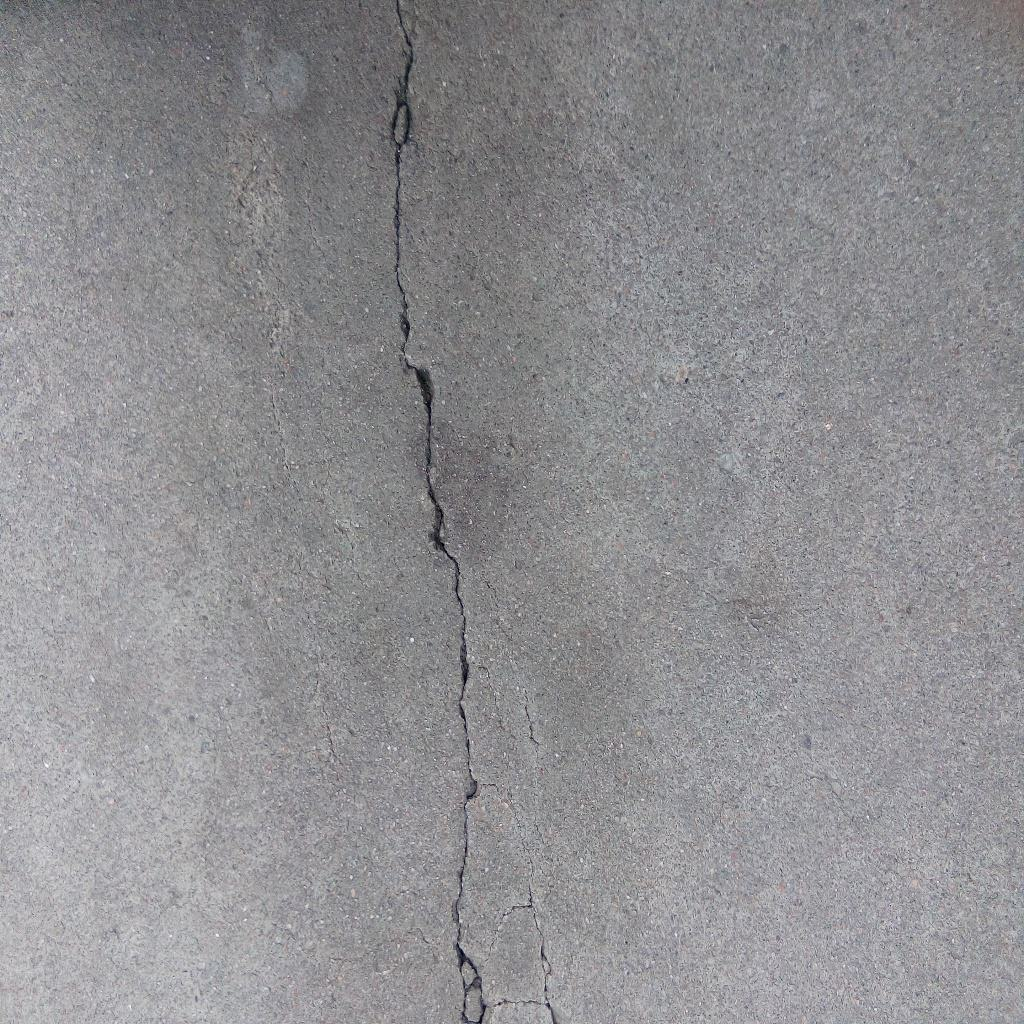Crack: (391, 1, 558, 1024)
